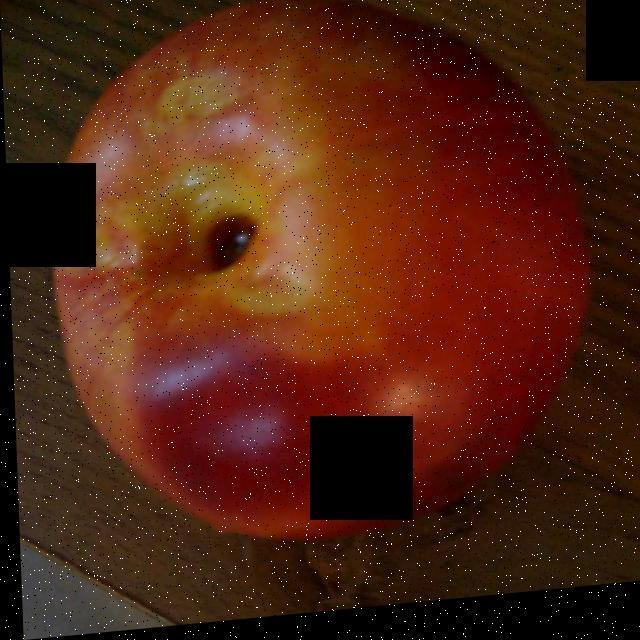nectarine: (56, 11, 579, 520)
